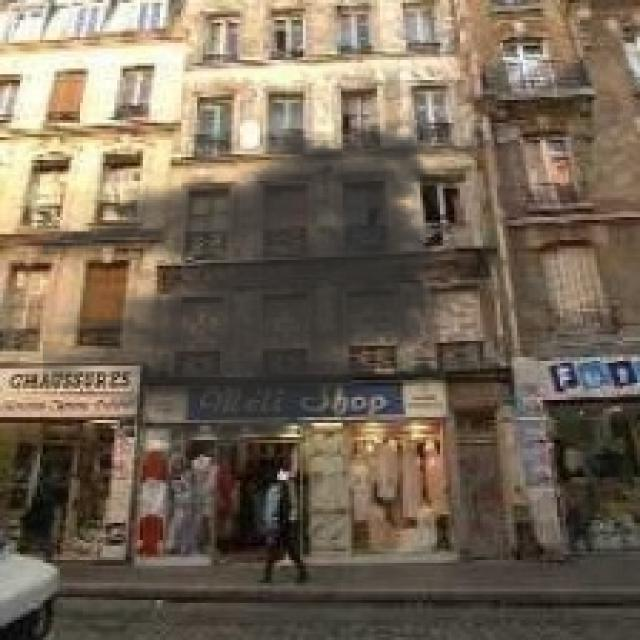smoke: (43, 109, 466, 477)
